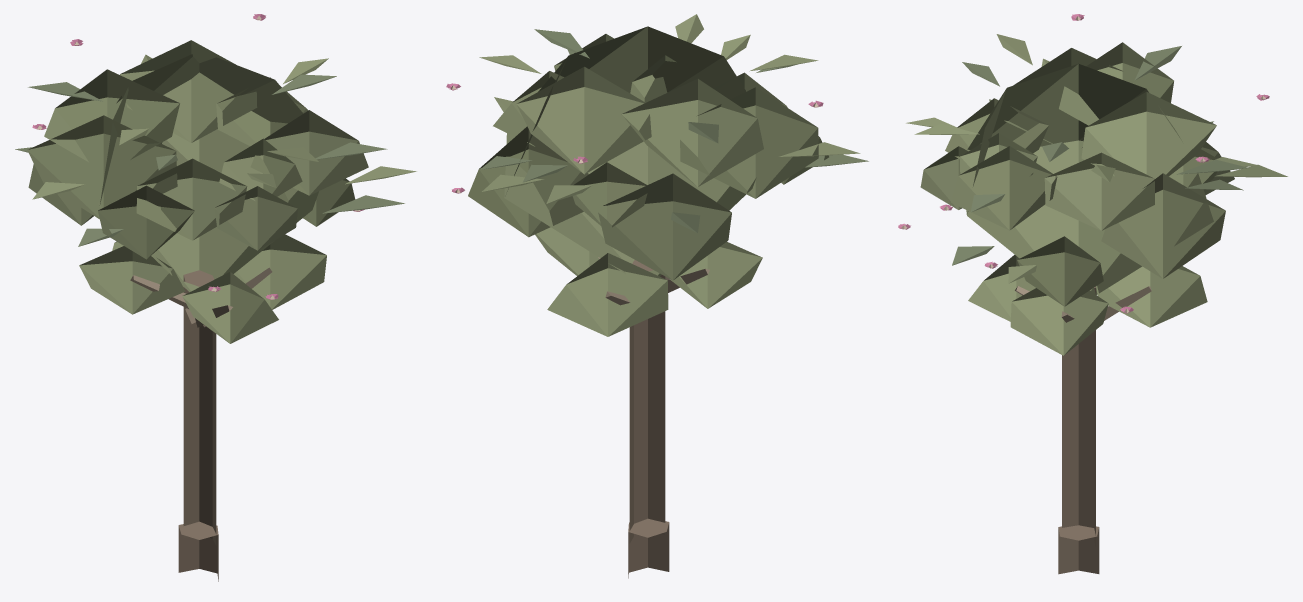
Rendered from shu.longnao@flowering__winter.glb.
The picture shows the model from 3 angles, left to right: view 1: azimuth 30°, elevation 25°; view 2: azimuth 150°, elevation 25°; view 3: azimuth 270°, elevation 25°; orthographic projection. The views are drawn at different scales.
Visible parts, largest first — view 1: shu.longnao@flowering__winter; view 2: shu.longnao@flowering__winter; view 3: shu.longnao@flowering__winter.
Part boxes in pixels (left/top/right/bottom): shu.longnao@flowering__winter: left=15, top=14, right=416, bottom=581; shu.longnao@flowering__winter: left=446, top=14, right=868, bottom=578; shu.longnao@flowering__winter: left=898, top=14, right=1287, bottom=574.
Size of the model in its own units: 21.86 by 29.23 by 20.37.
